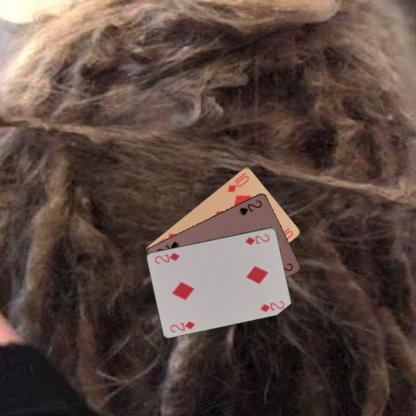10d: (225, 170, 250, 193)
2d: (243, 231, 271, 246), (168, 318, 196, 333)
2s: (236, 197, 264, 217)
